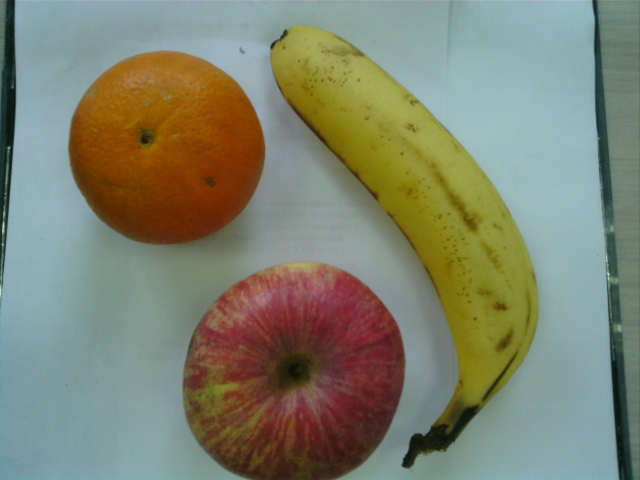normal_apple: (180, 260, 405, 480)
normal_banana: (268, 25, 543, 395)
normal_orange: (69, 47, 265, 248)
